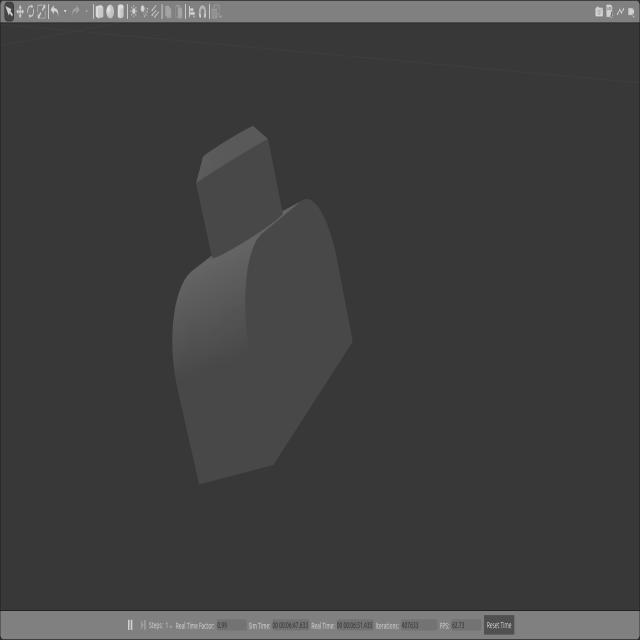block5: (172, 127, 354, 486)
